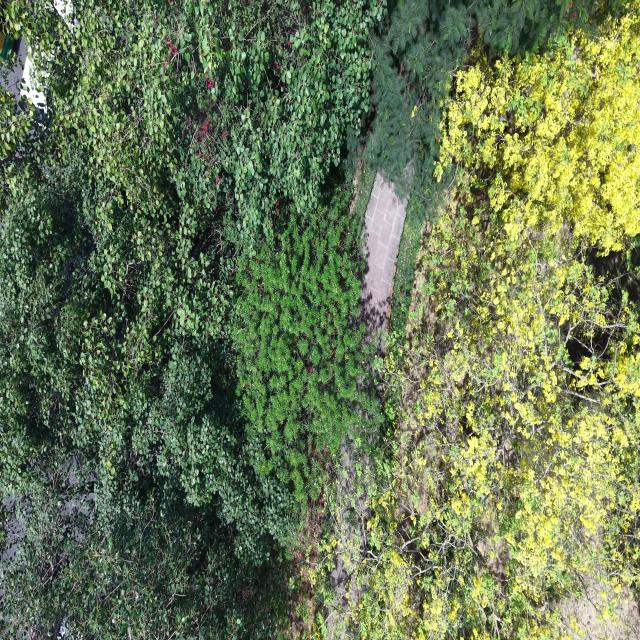DRY_AREA: (326, 439, 364, 639), (548, 566, 639, 639), (557, 583, 639, 639)
PATHWAYS: (326, 437, 365, 639), (361, 173, 406, 339)
VEGETATION_TREE: (0, 0, 639, 638), (0, 2, 383, 637), (353, 12, 639, 637), (367, 0, 625, 331), (367, 0, 623, 216), (2, 450, 292, 638), (435, 15, 639, 253), (232, 188, 378, 502)
